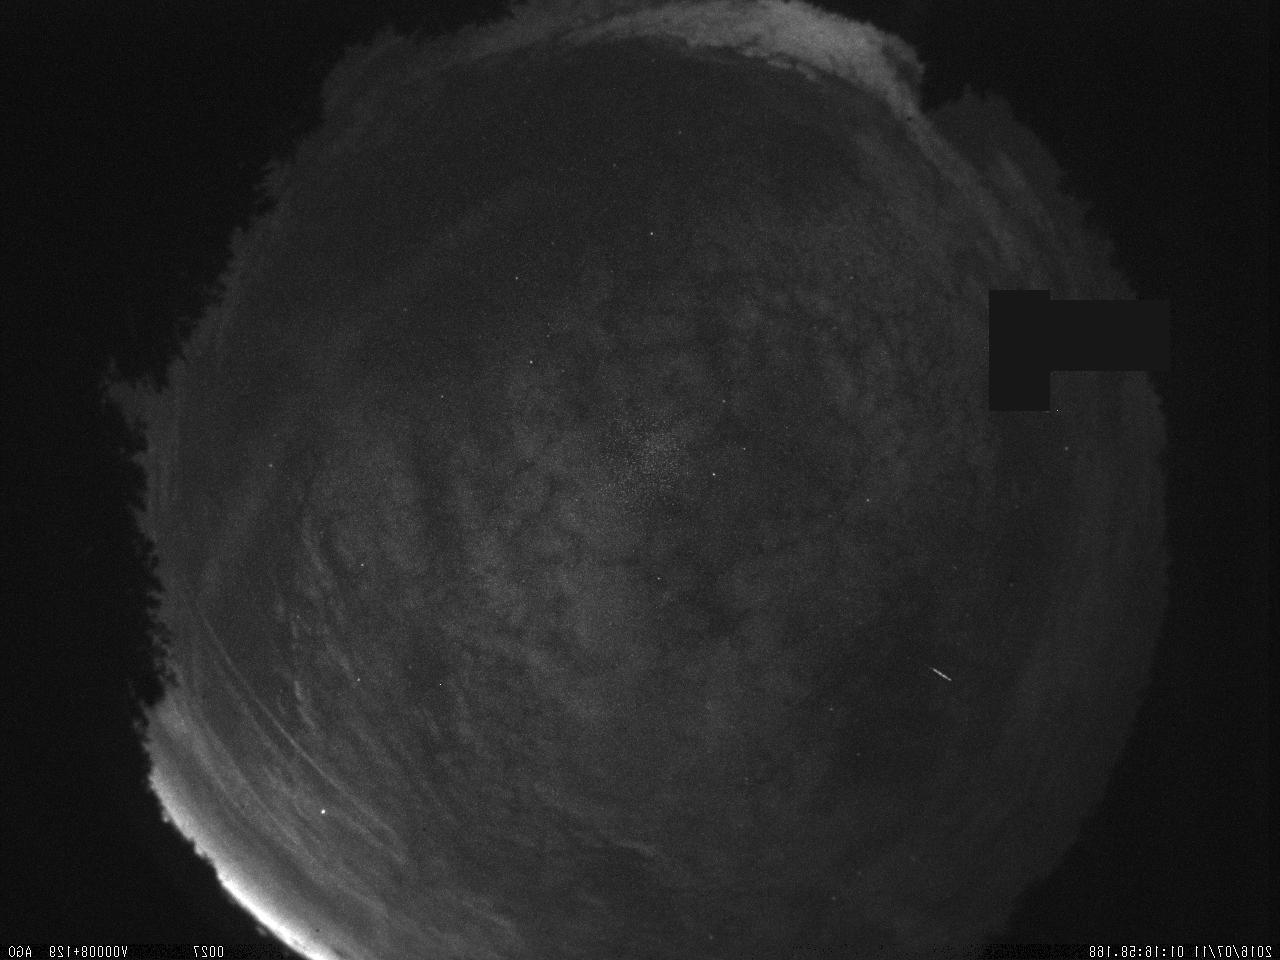meteor: (924, 658, 957, 695)
